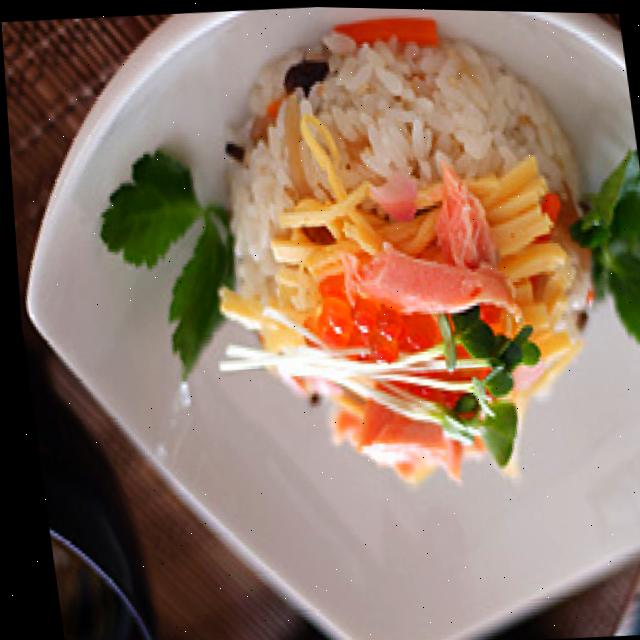寿司卷物: (181, 8, 640, 536)
